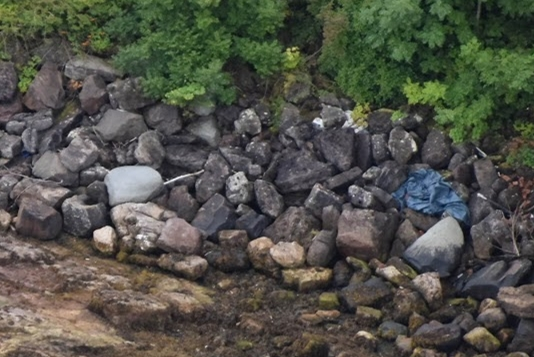white_in_green: (387, 142, 481, 235)
